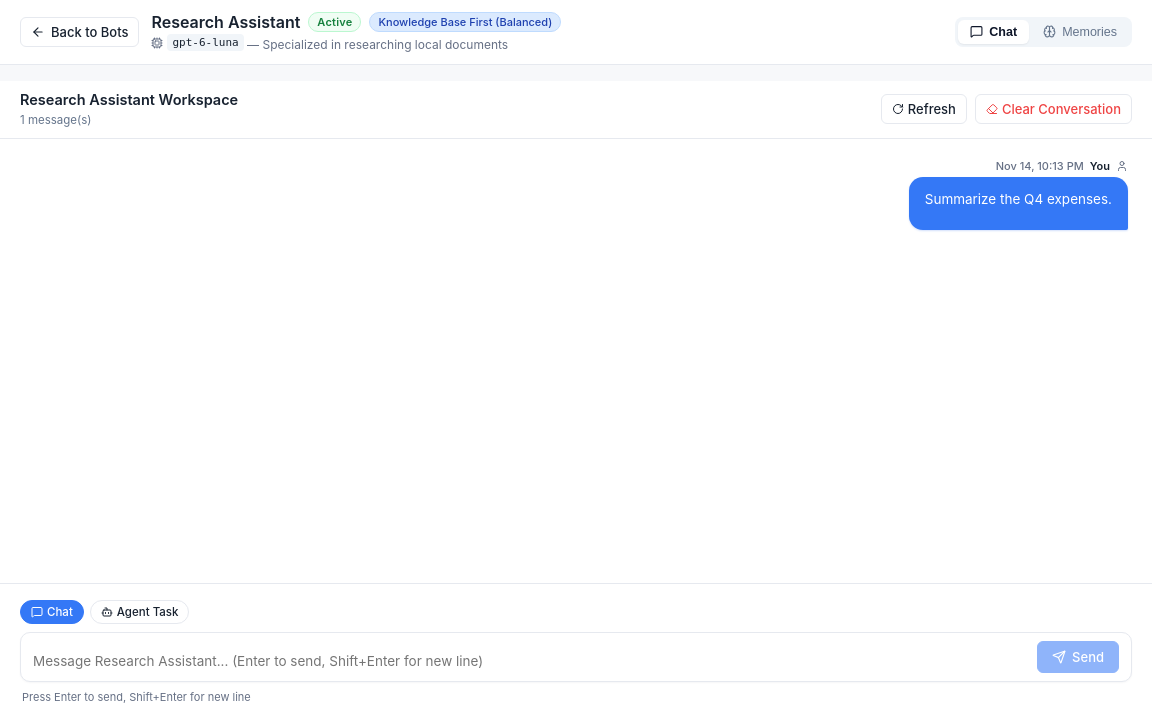
Scenario: Renderer: BotConversationsWorkspacePage Unified Single Conversation (Phase 12 Step 12.2) › 17. does not show Retry button when error is non-retryable
This screenshot has width=1152, height=720.
Replace the text in the text box with test id "message-input" with "Too long prompt" at [530, 661], box [33, 649, 1027, 673]
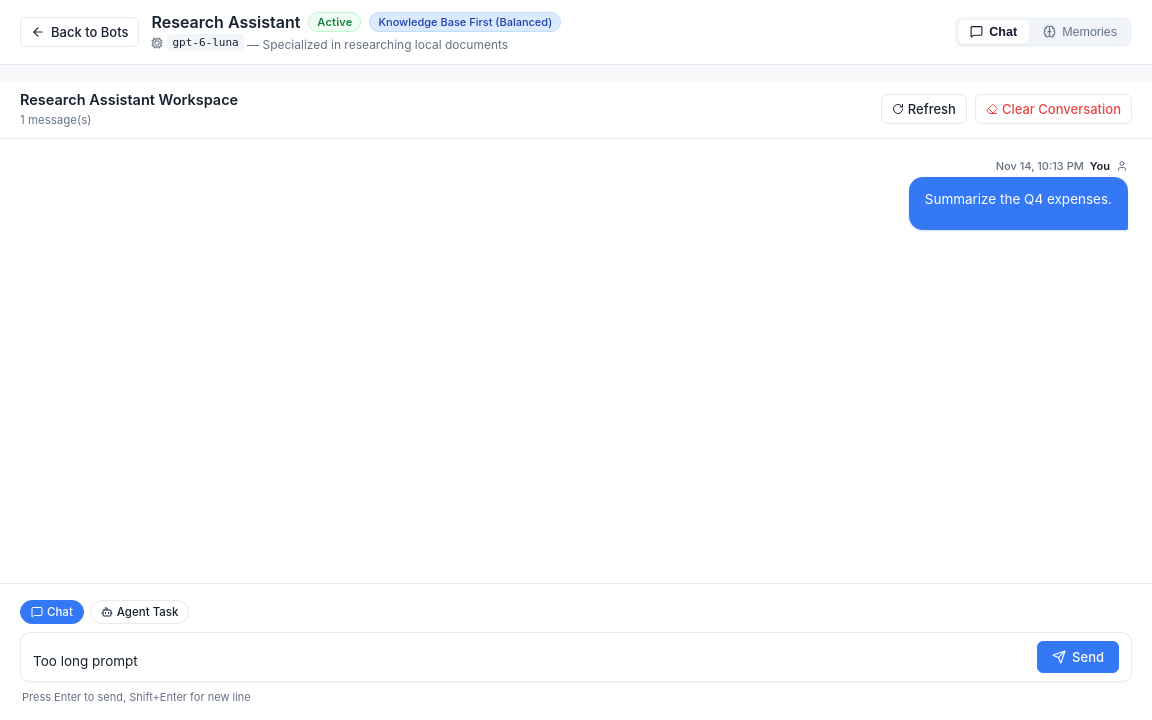
Click the button with test id "send-message-btn" at [1078, 657], box [1037, 641, 1119, 673]
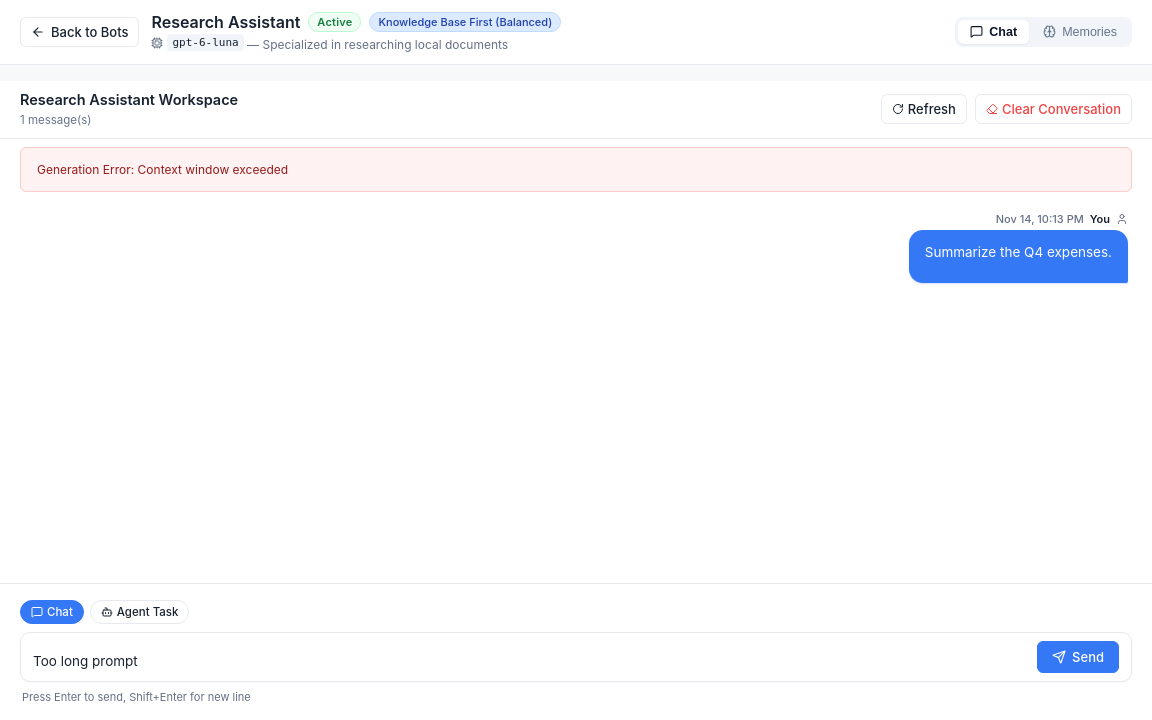
Expected: the message "Generation Error: Context window exceeded" is shown, [20, 146, 1132, 192]
